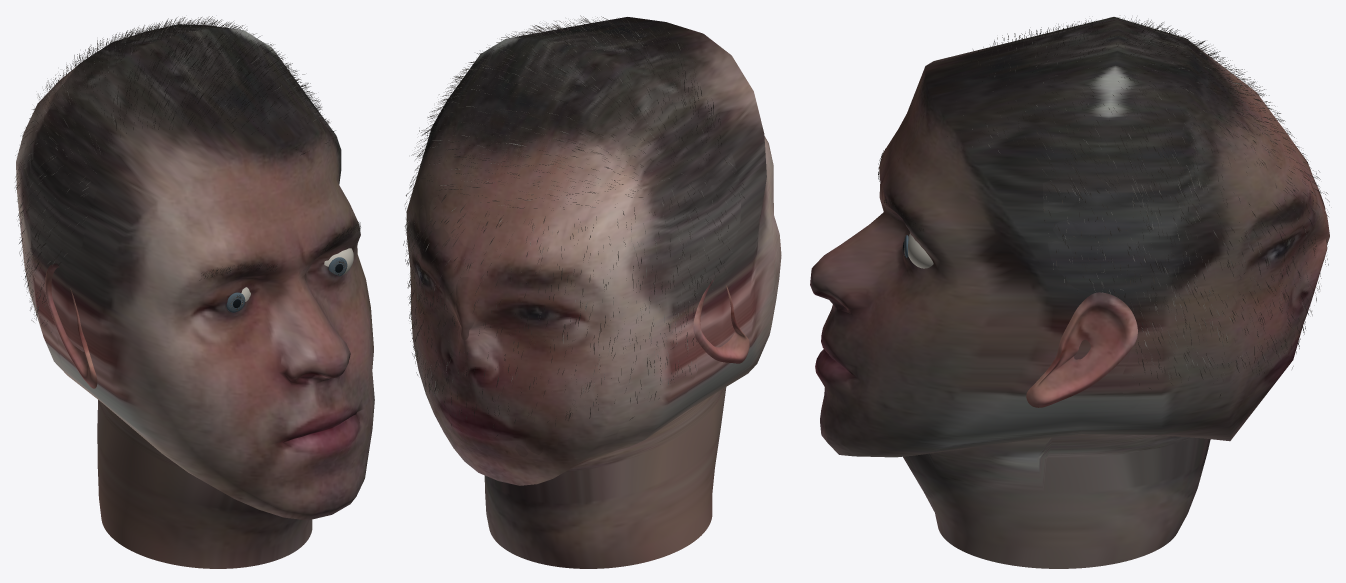
The model's file is FacePortrait_HeadNeck_50k.glb.
3 renders of one model, left to right at view 1: azimuth 30°, elevation 25°; view 2: azimuth 150°, elevation 25°; view 3: azimuth 270°, elevation 25°, orthographic. The views are drawn at different scales.
Parts seen in each view (by area): view 1: FacePortrait_HeadNeck; view 2: FacePortrait_HeadNeck; view 3: FacePortrait_HeadNeck.
Boxes of the visible parts, left/top/right/bottom form: FacePortrait_HeadNeck: left=15, top=16, right=374, bottom=568; FacePortrait_HeadNeck: left=403, top=15, right=781, bottom=568; FacePortrait_HeadNeck: left=810, top=17, right=1329, bottom=568.
Size of the model in its own units: 1.72 by 2.91 by 2.8.
Materials: 12 (3 with a texture image).
